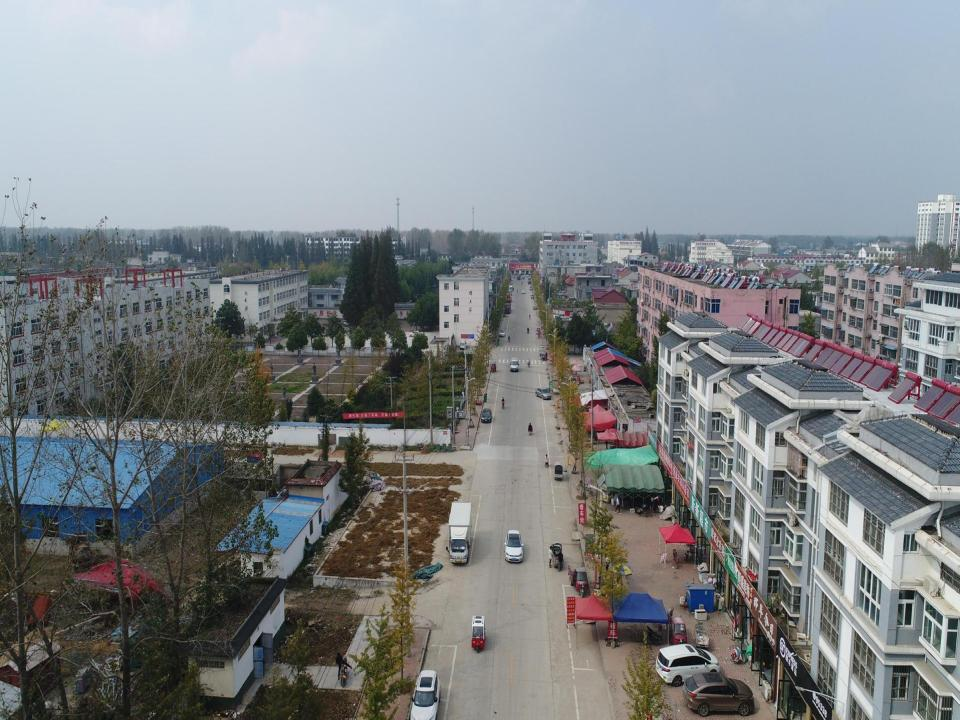car: (682, 668, 756, 716), (654, 641, 720, 685), (410, 668, 441, 720), (502, 527, 526, 564), (481, 406, 494, 426), (535, 386, 552, 401), (408, 329, 422, 337), (342, 318, 353, 327), (413, 332, 424, 340), (459, 341, 467, 350), (498, 329, 506, 337), (528, 284, 533, 290), (507, 288, 512, 294), (521, 289, 526, 294), (528, 291, 534, 295), (527, 280, 531, 284), (522, 275, 524, 279)
truck: (446, 499, 474, 564), (502, 300, 511, 313), (516, 273, 520, 281)
van: (509, 357, 521, 374), (509, 284, 514, 290)
